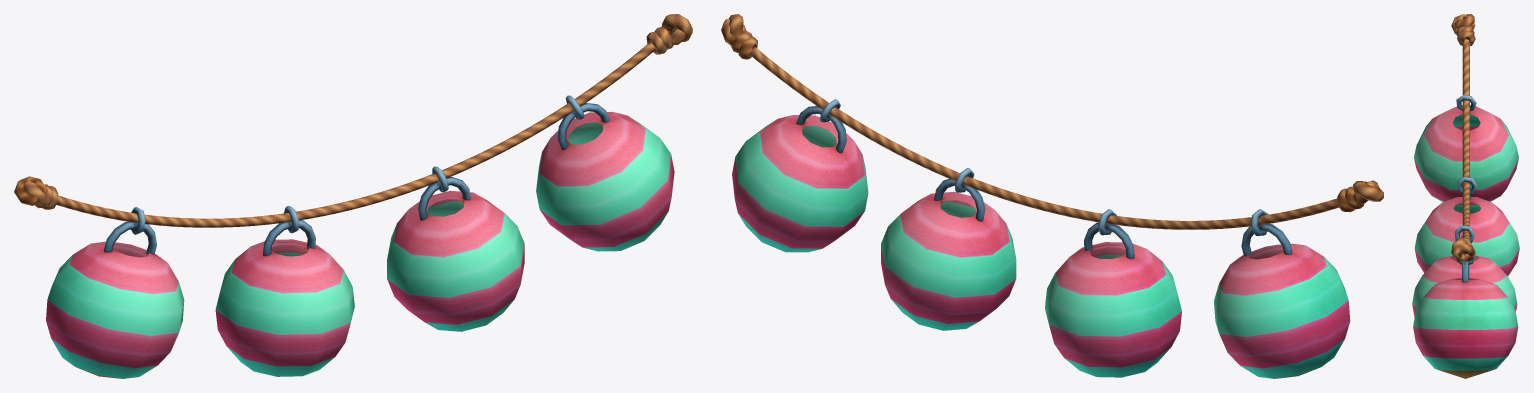
The model's file is SE_Lampions_02a.fbx.
3 renders of one model, left to right at view 1: azimuth 30°, elevation 25°; view 2: azimuth 150°, elevation 25°; view 3: azimuth 270°, elevation 25°, orthographic. The views are drawn at different scales.
Visible parts, largest first — view 1: SE_Lampions_02a; view 2: SE_Lampions_02a; view 3: SE_Lampions_02a.
Boxes of the visible parts, bbox=[...] form: SE_Lampions_02a: bbox=[14, 14, 692, 378]; SE_Lampions_02a: bbox=[721, 14, 1383, 378]; SE_Lampions_02a: bbox=[1412, 14, 1519, 378].
Size of the model in its own units: 12.09 by 4.6 by 2.29.
